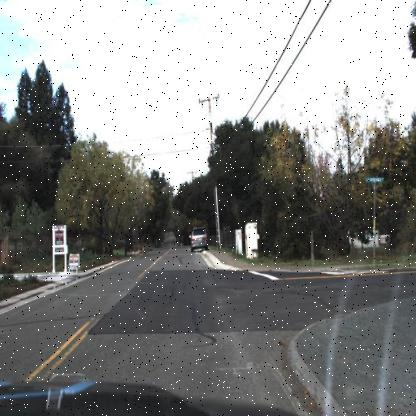car: (186, 218, 211, 258)
